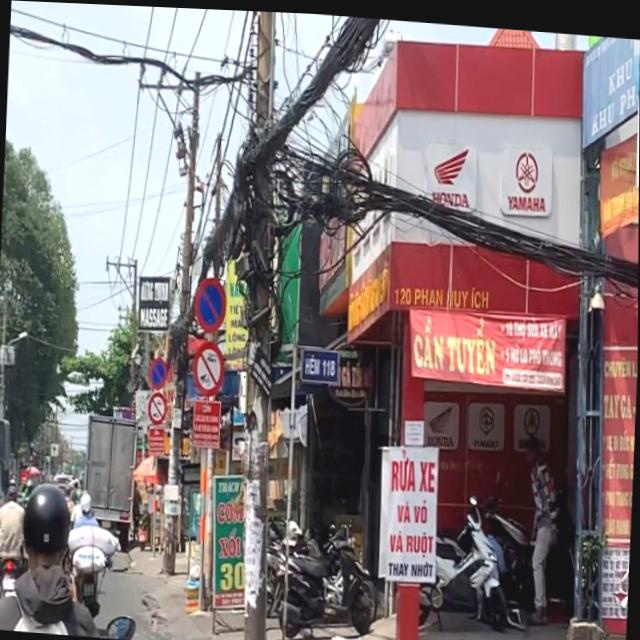Cam do xe: (193, 273, 228, 332), (149, 354, 168, 389)
